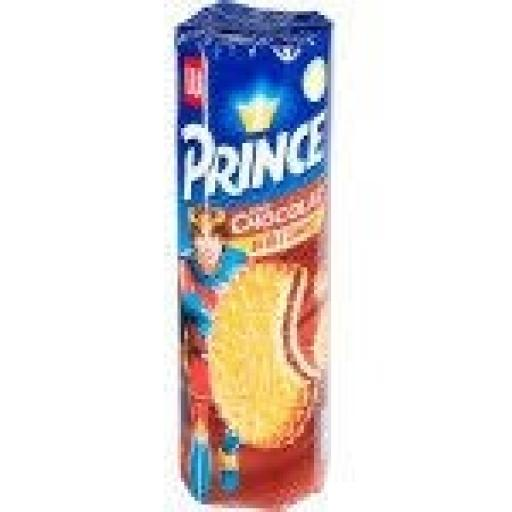prince: (99, 5, 401, 509)
